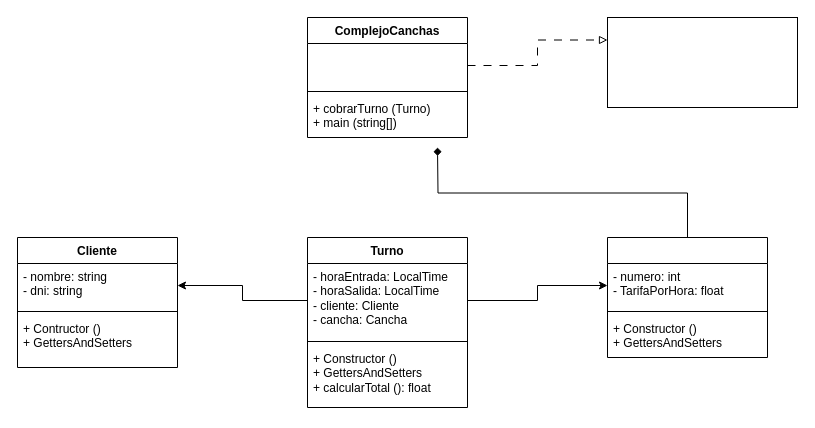
This 815x428 diagram has some shape labels left out. The box of each missing label's shape, as (x1, y1, x2, y2) in pixels:
<<Interface>> ICobrable + cobrarTurno (Turno): void: (606, 16, 798, 108)
Cancha: (606, 236, 768, 358)
